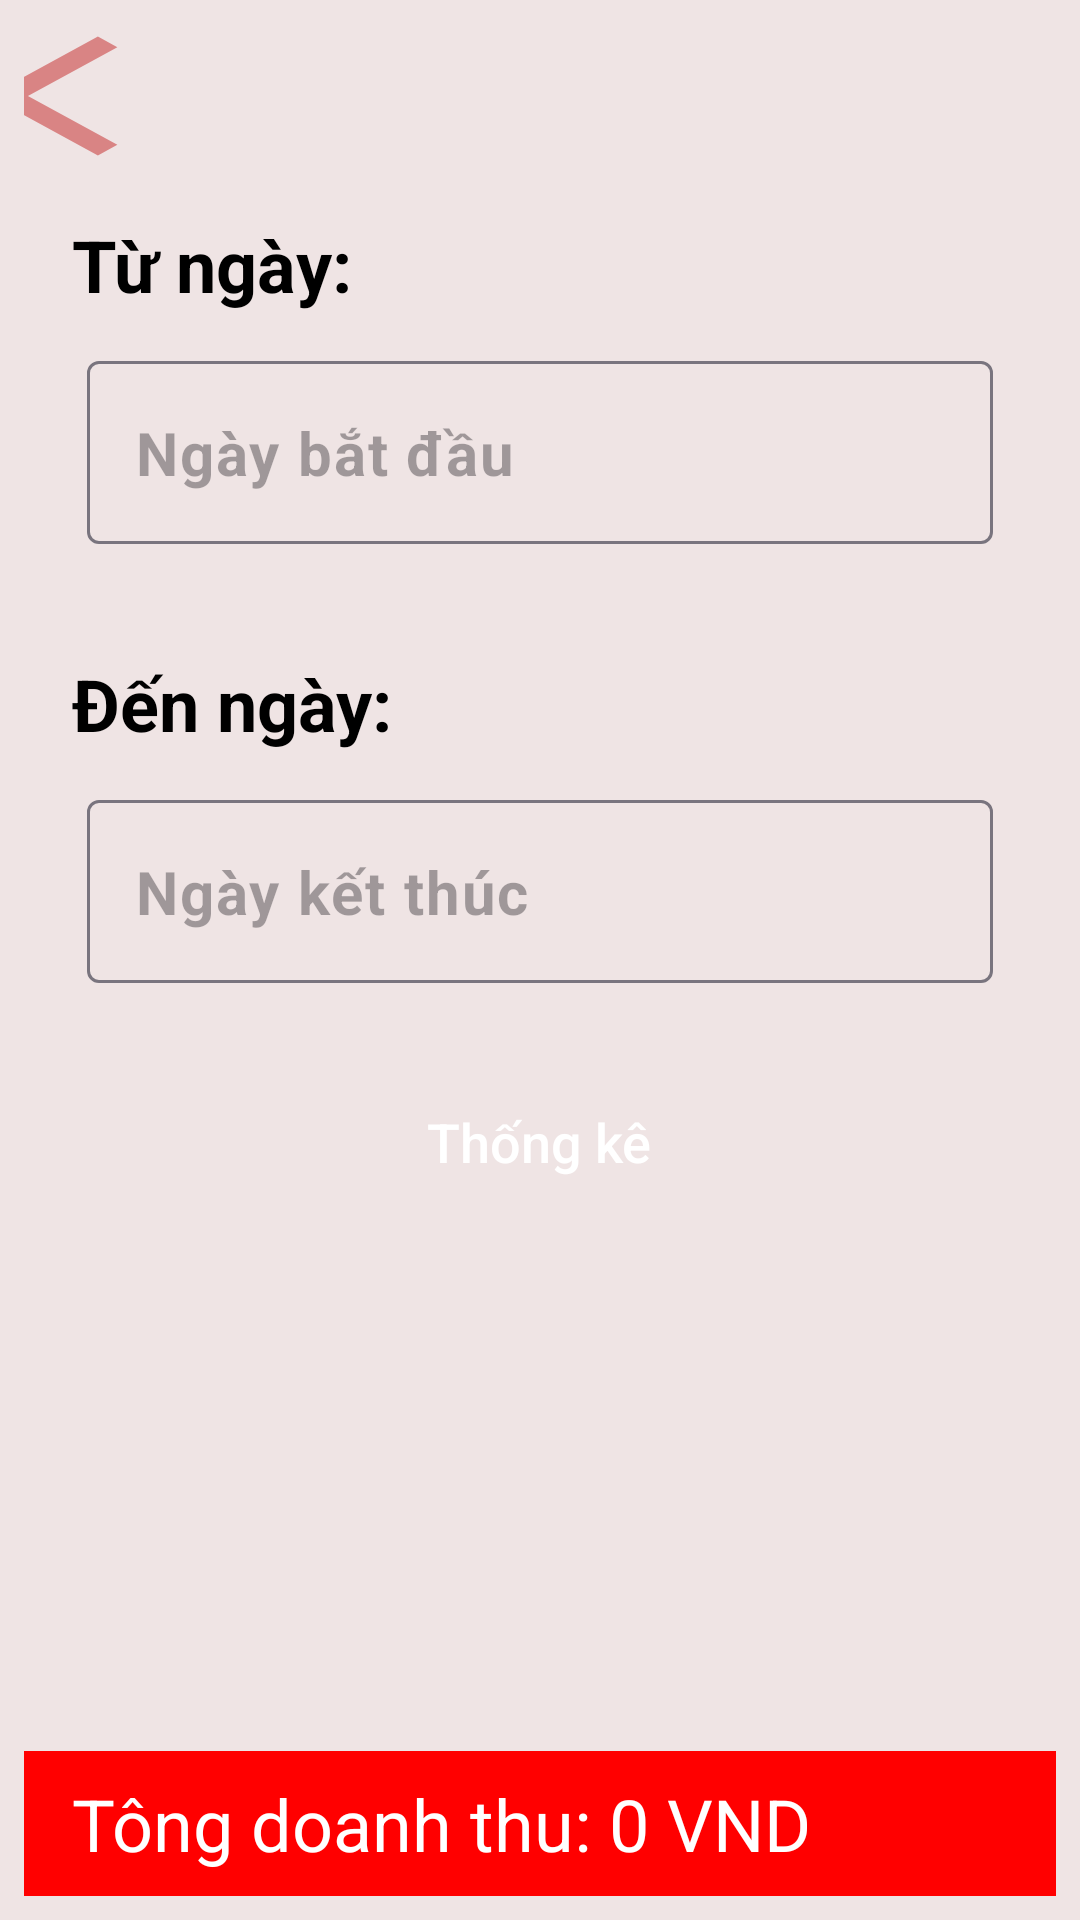

Point at icon controls on the screen. Image size 1080×1920, points as (x=x, y=y).
back: (x=70, y=96)
